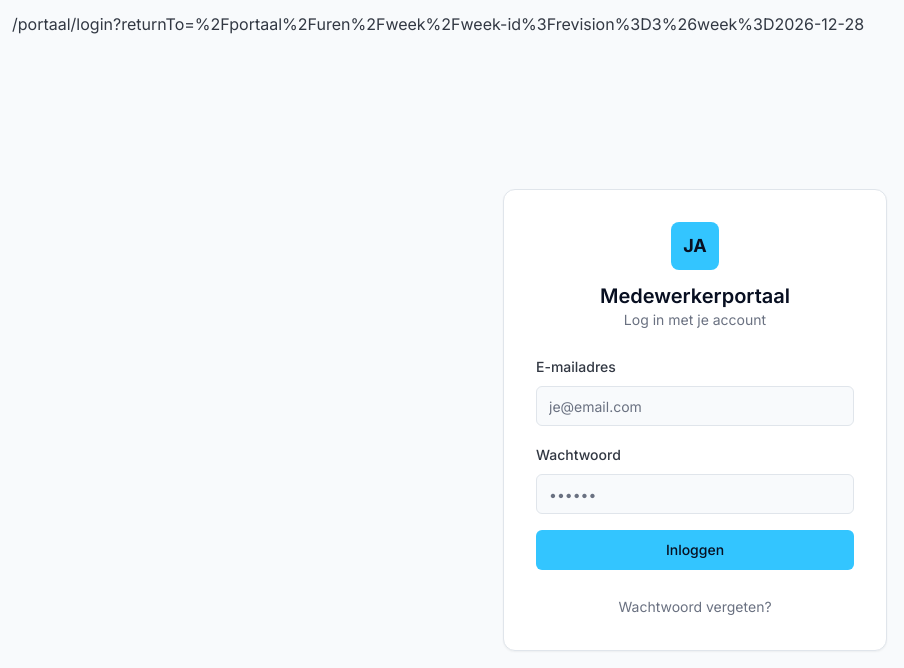
Scenario: portal login return navigation › returns an employee to the requested week and query after login
Type "medewerker@example.test" into the field labelled "E-mailadres".
click(695, 406); type("medewerker@example.test")  # box [536, 386, 854, 426]
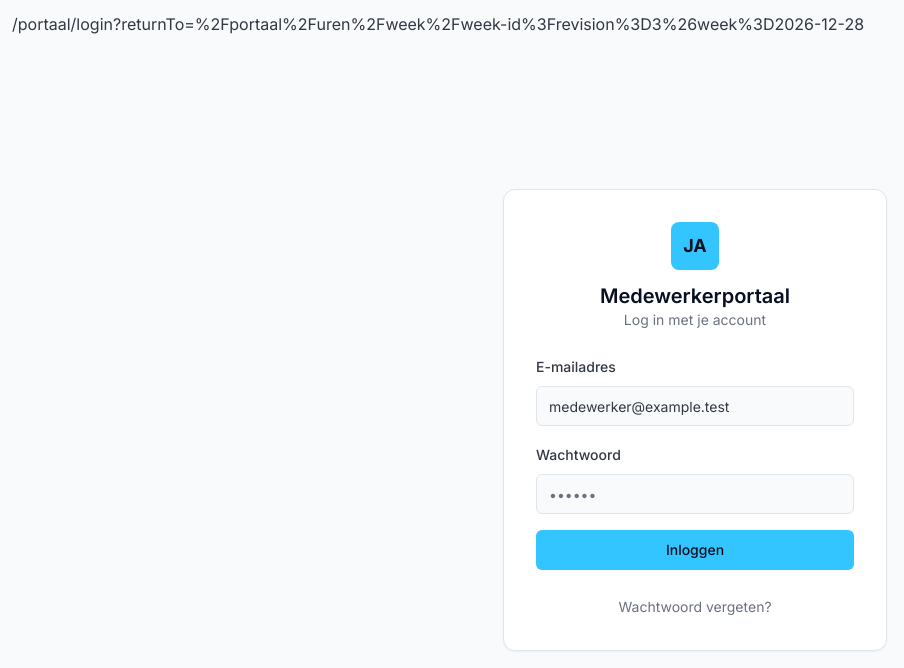
Type "test-password" into the password field labelled "Wachtwoord".
click(695, 494); type("test-password")  # box [536, 474, 854, 514]
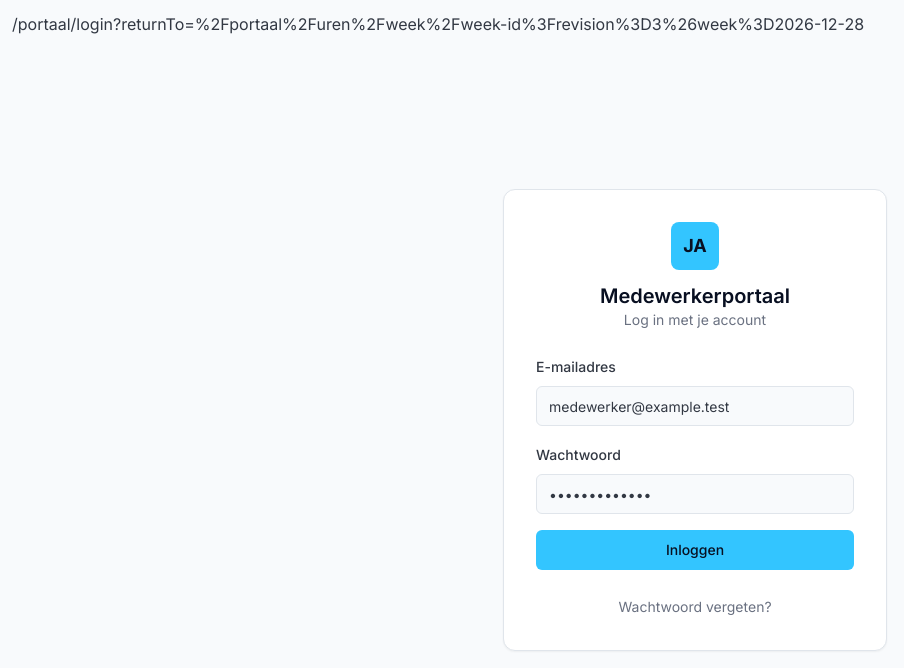
Click the button "Inloggen".
click(695, 550)  # box [536, 530, 854, 570]
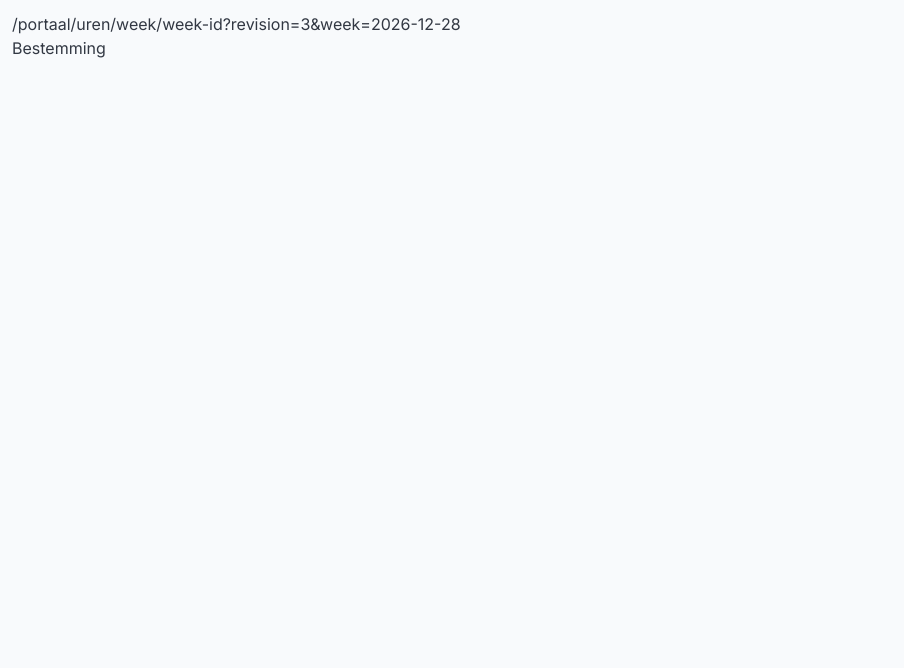
Expected: the text "Bestemming" is shown, [12, 38, 106, 58]
Expected: the text with test id "location" reads "/portaal/uren/week/week-id?revision=3&week=2026-12-28", [12, 14, 461, 34]
